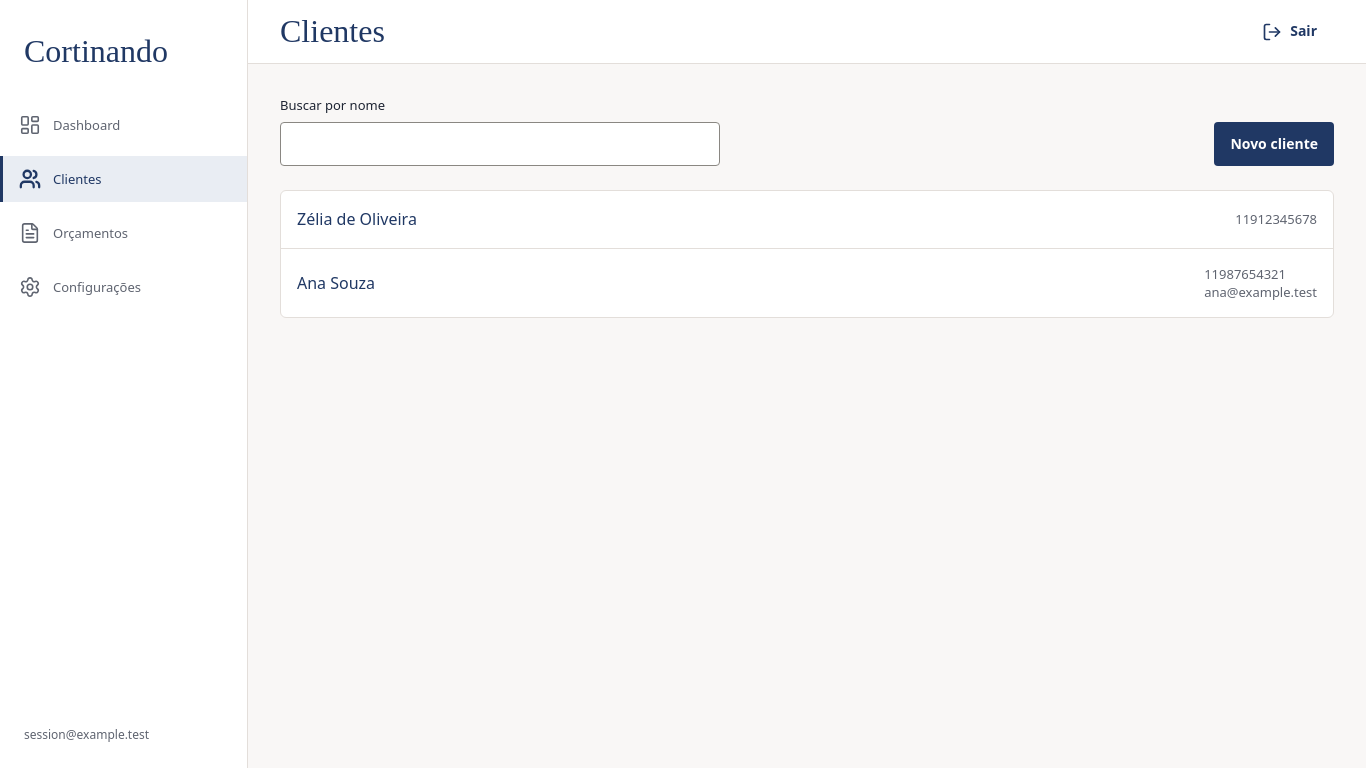
Test case: leaving the page cancels the pending debounce
Type "uncommitted" into the search field labelled "Buscar por nome" at x=500, y=144, box [280, 122, 720, 166]
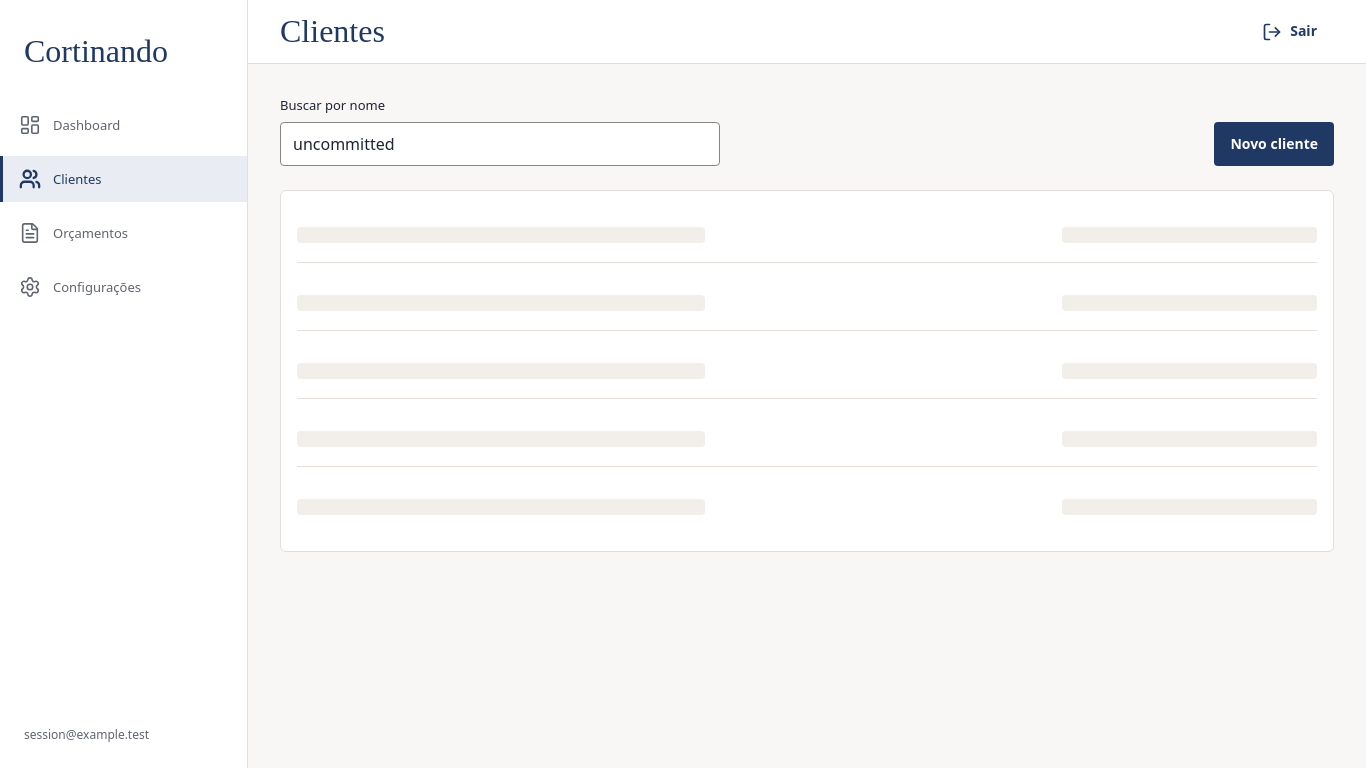
Click the link "Novo cliente" at x=1274, y=144, box [1214, 122, 1334, 166]
Wait 320 ms
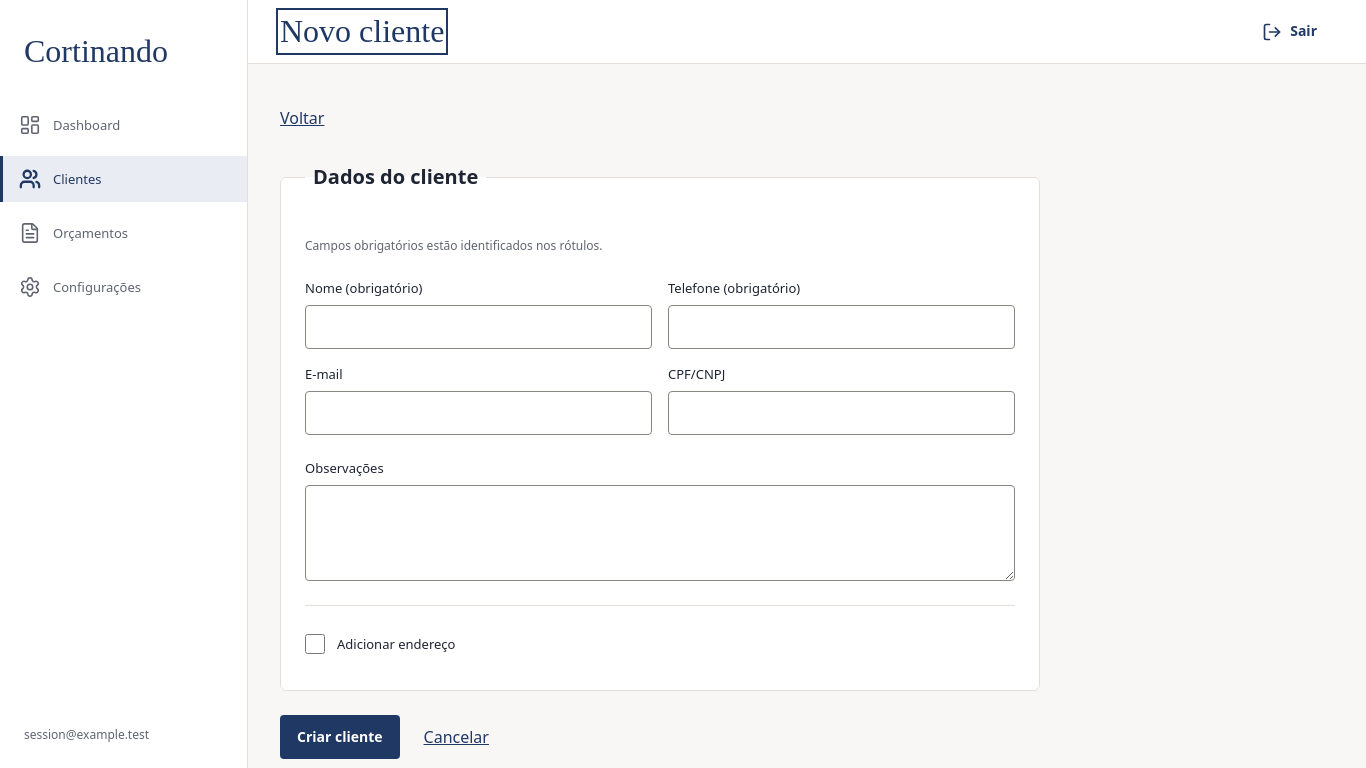
Check: the heading "Novo cliente" is shown, box [280, 12, 444, 51]
